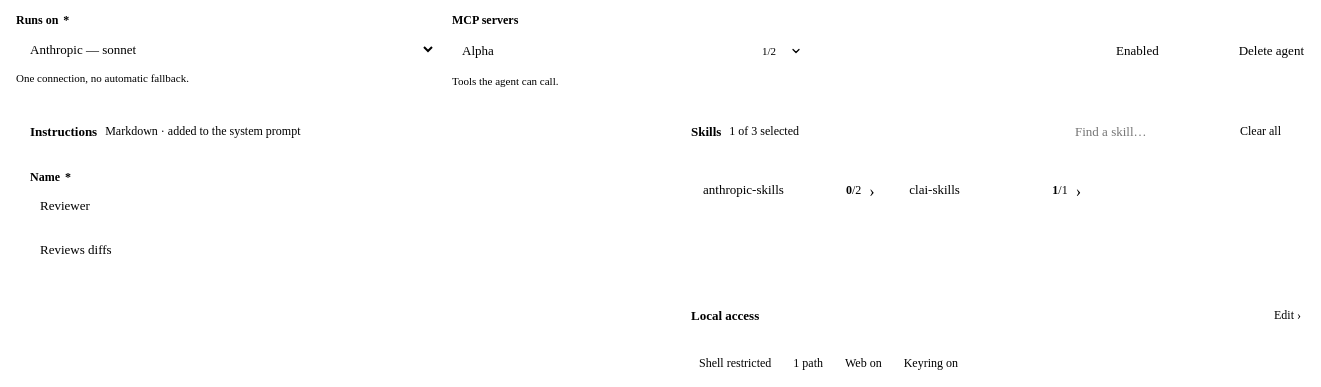
Test case: AgentBehaviorForm › skills › finds a skill across sources from the overview
Expected: the field showing "Reviewer" is shown, [30,191,643,221]
Step 1. Type "review" into the search field named "Search skills" → (1145, 132), box [1065,120,1225,144]
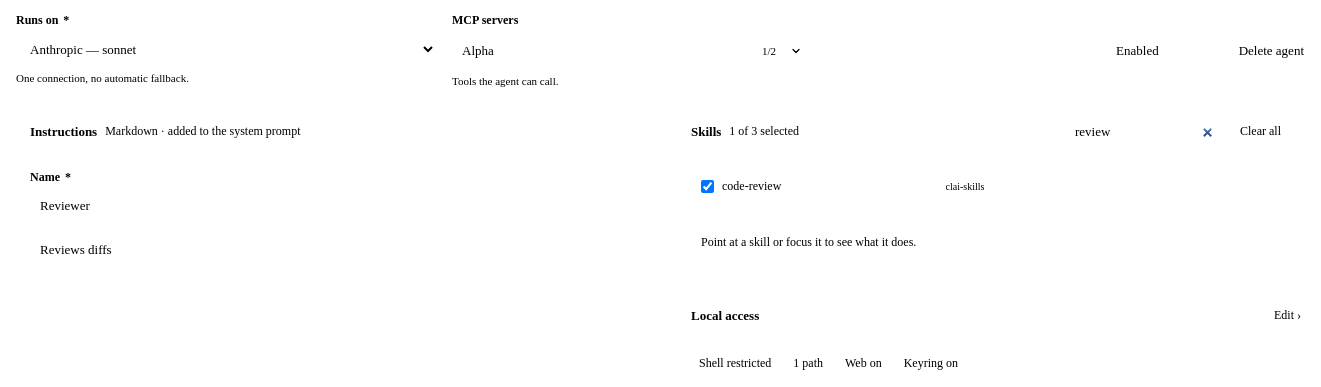
Expected: the text "clai-skills" is shown, [946,181,984,192]
Result: the checkbox labelled "code-review" is checked at [701,180,714,193]
Step 2. Replace the text in the search field named "Search skills" with "zzz" → (1145, 132), box [1065,120,1225,144]
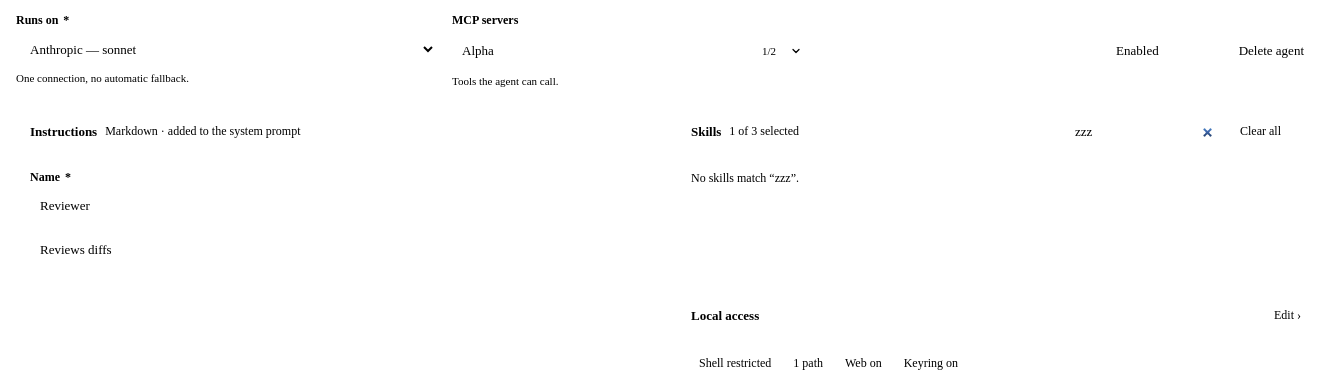
Result: the message reads "No skills match “zzz”." at [691,171,799,185]
